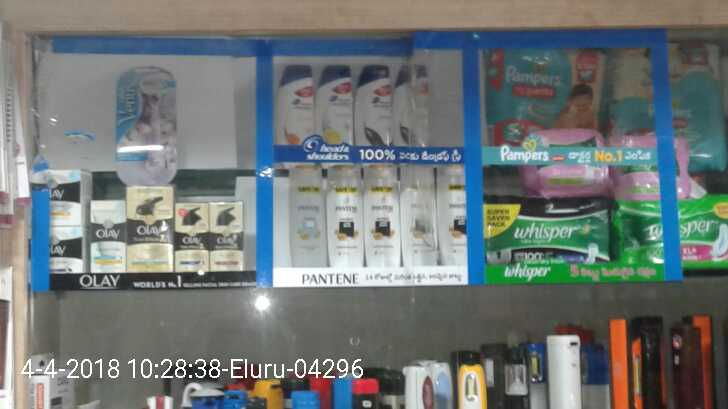venus: (116, 65, 177, 184)
